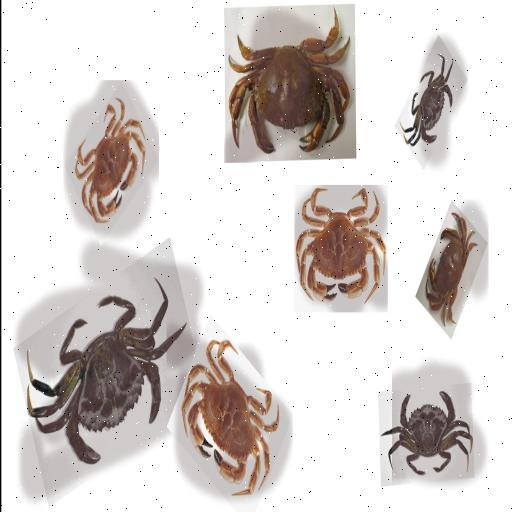green crab: (16, 266, 184, 479), (384, 368, 476, 488), (399, 38, 468, 166)
joe crab: (179, 337, 287, 494), (71, 92, 149, 242), (294, 187, 389, 307)
rock crab: (224, 10, 356, 164), (415, 209, 485, 336)
